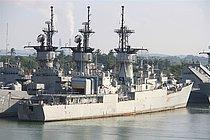MIL_Ship: (16, 35, 196, 122)
